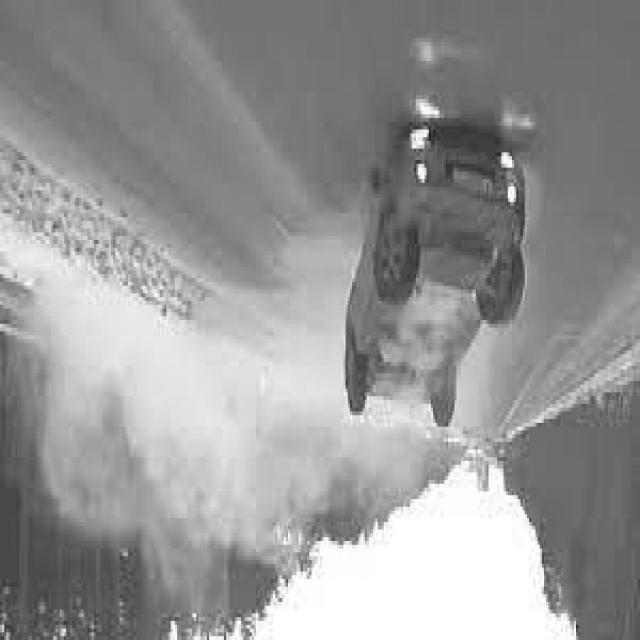severe: (341, 118, 529, 438)
